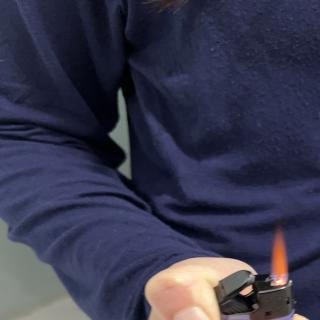fire: (270, 226, 292, 286)
